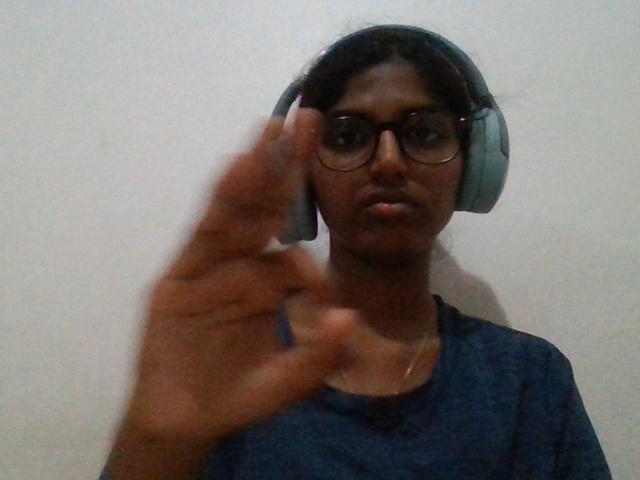F: (91, 76, 369, 480)
